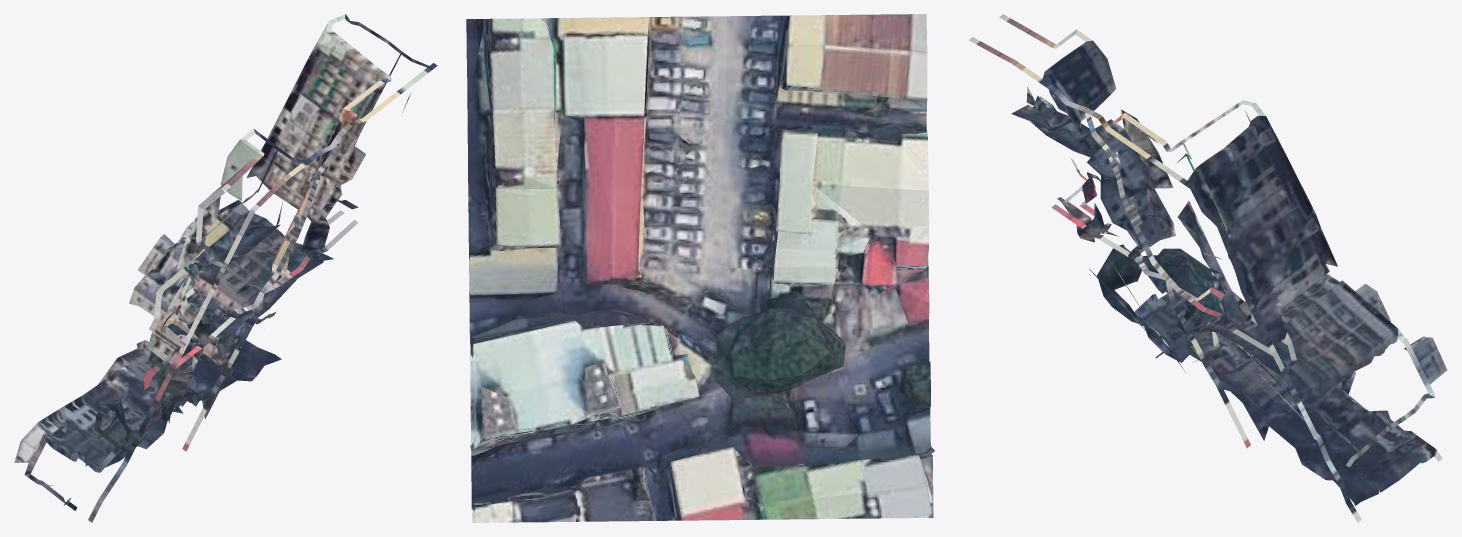
3 views of the same model, side by side, from view 1: azimuth 30°, elevation 25°; view 2: azimuth 150°, elevation 25°; view 3: azimuth 270°, elevation 25° (orthographic). The views are drawn at different scales.
Size of the model in its own units: 84.2 by 77.17 by 79.22.
Materials: 1 (1 with a texture image).
